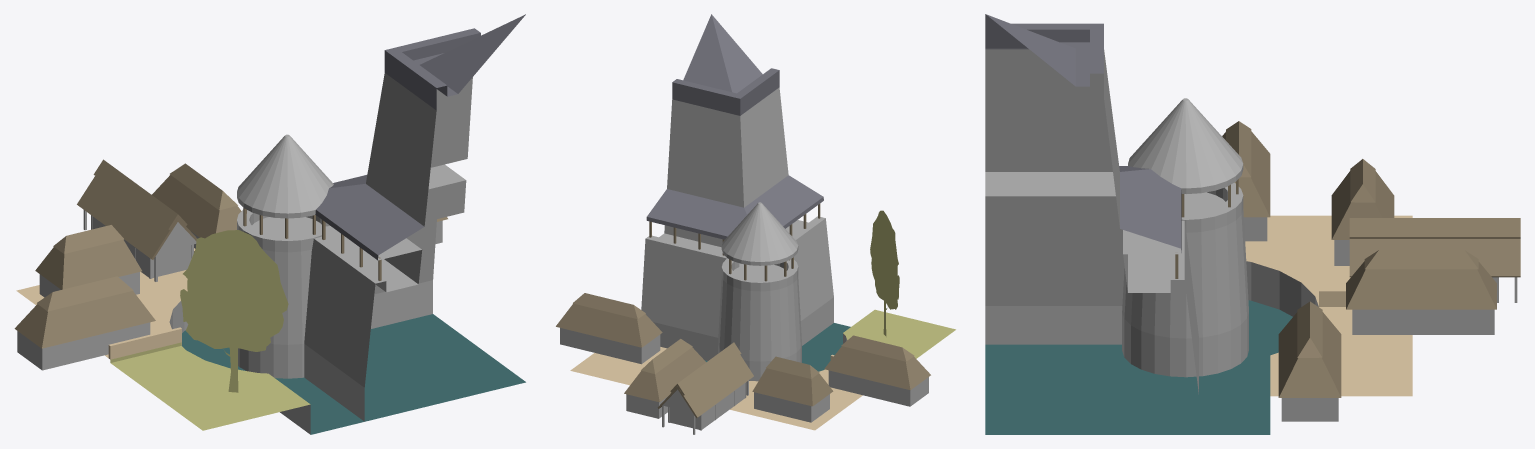
The picture shows the model from 3 angles, left to right: view 1: azimuth 30°, elevation 25°; view 2: azimuth 150°, elevation 25°; view 3: azimuth 270°, elevation 25°; orthographic projection. The views are drawn at different scales.
Parts seen in each view (by area): view 1: 11cw; view 2: 11cw; view 3: 11cw.
Part boxes in pixels (x1,y1,x2,y2): 11cw: (14, 14, 525, 434); 11cw: (556, 14, 955, 434); 11cw: (985, 14, 1520, 434).
Bounding box in the file's own units: 40.59 × 32.63 × 37.58.
